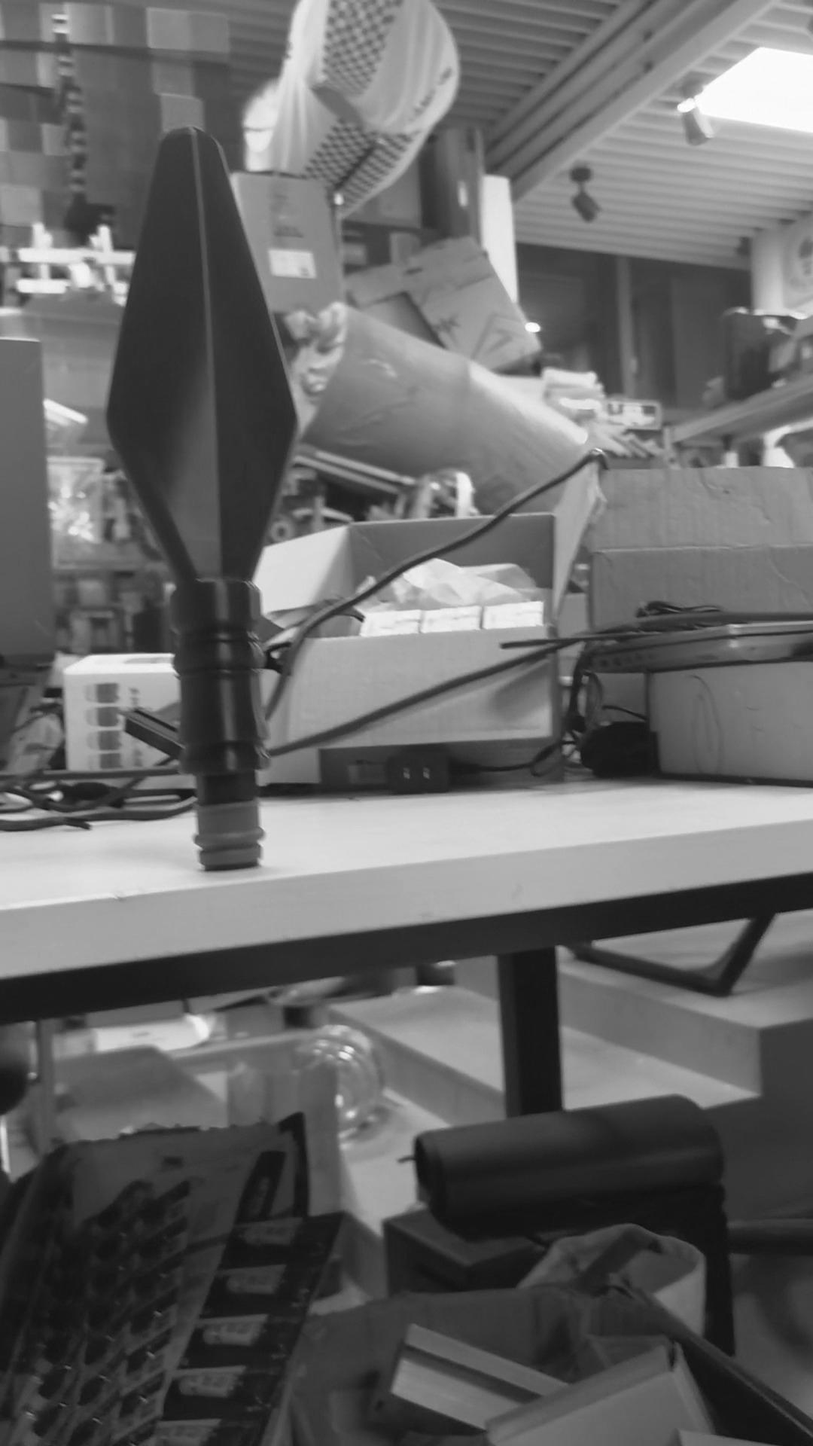base: (188, 796, 278, 878)
